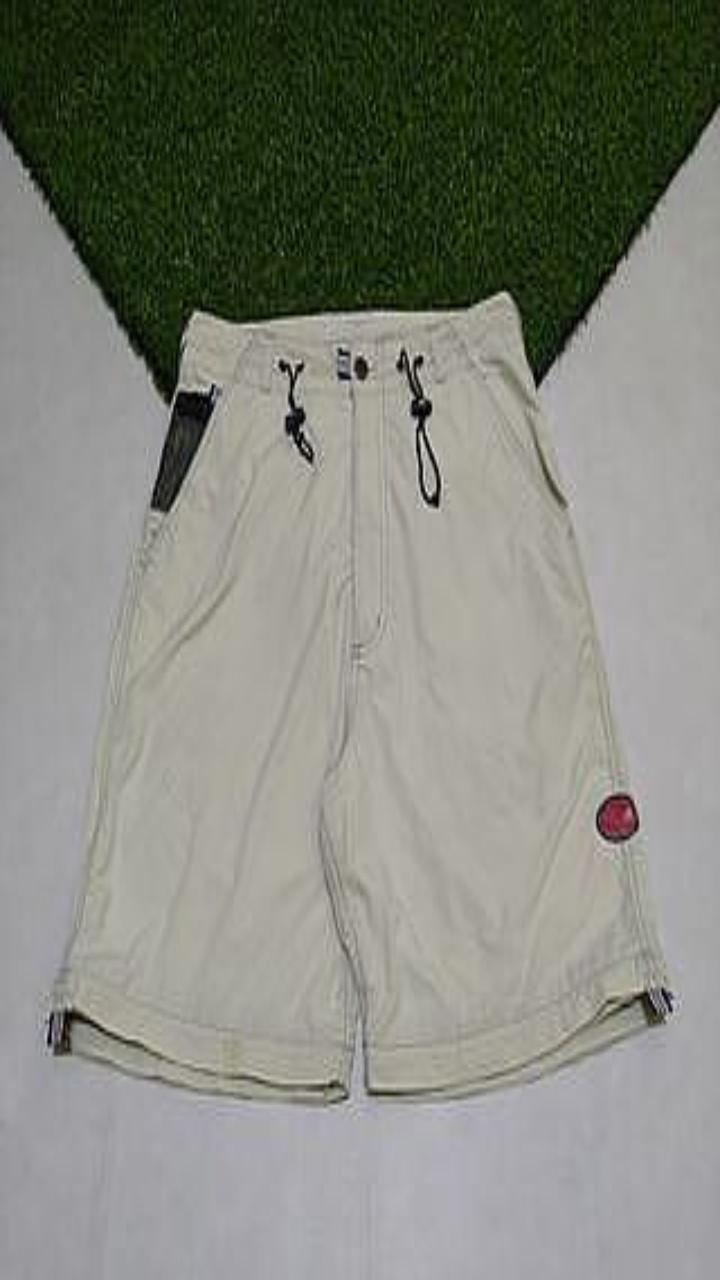Shorts: (48, 292, 671, 1100)
